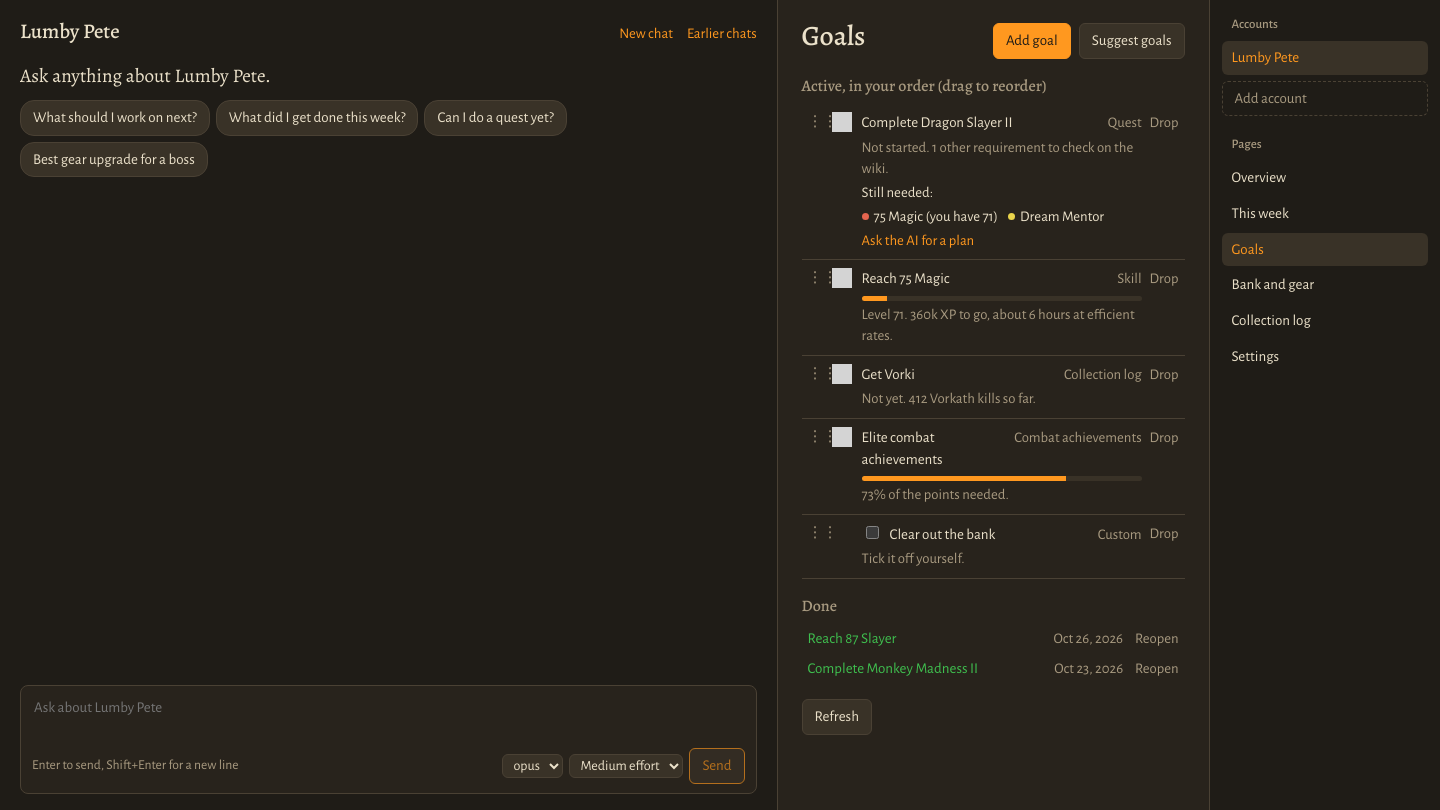
Scenario: Goals › offers to undo a drop
This screenshot has width=1440, height=810.
Step 1. Click the button with aria-label "Drop Complete Dragon Slayer II" → [1164, 123], box x1=1150 y1=112 x2=1179 y2=133
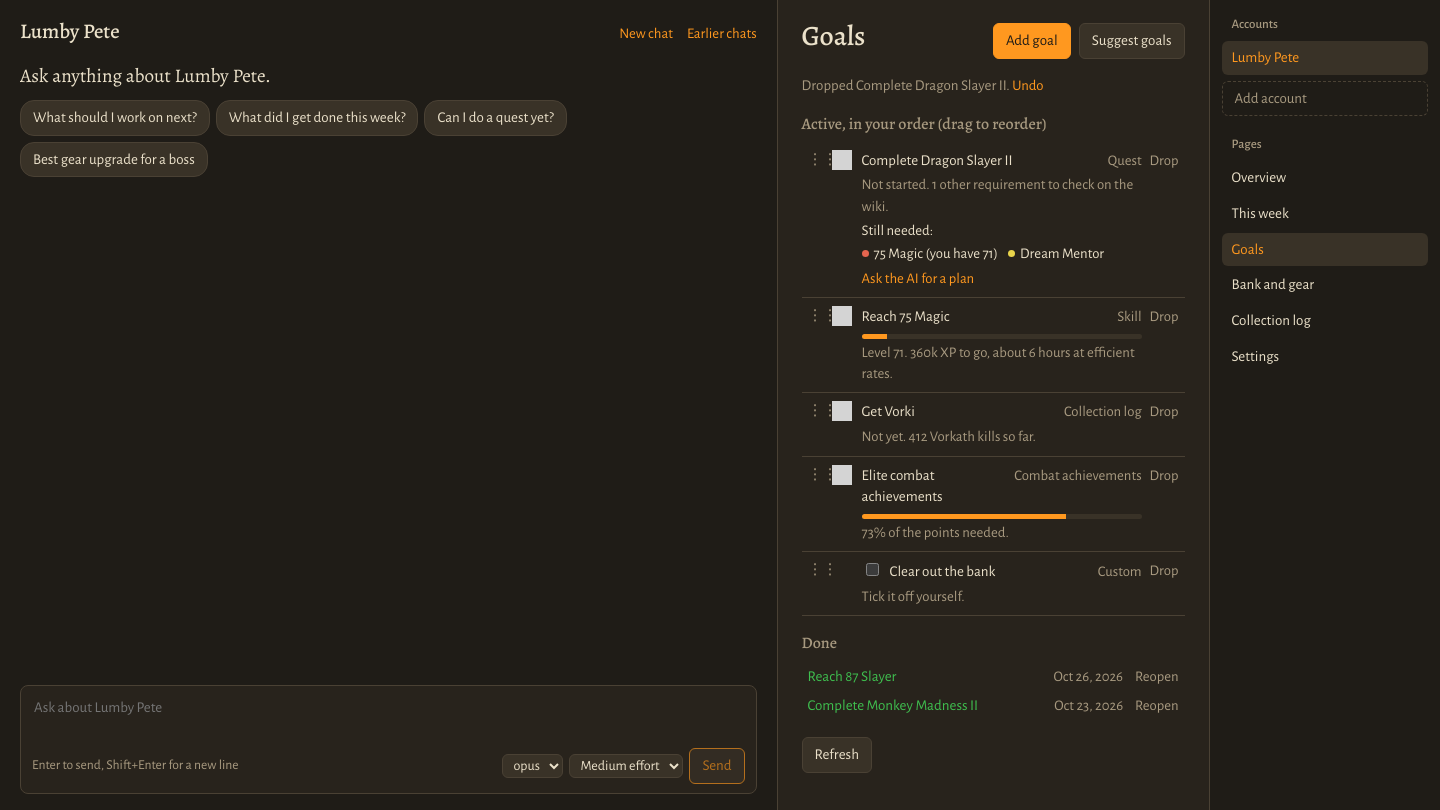
Step 2. Click the button "Undo" → [1028, 85], box x1=1012 y1=75 x2=1044 y2=96
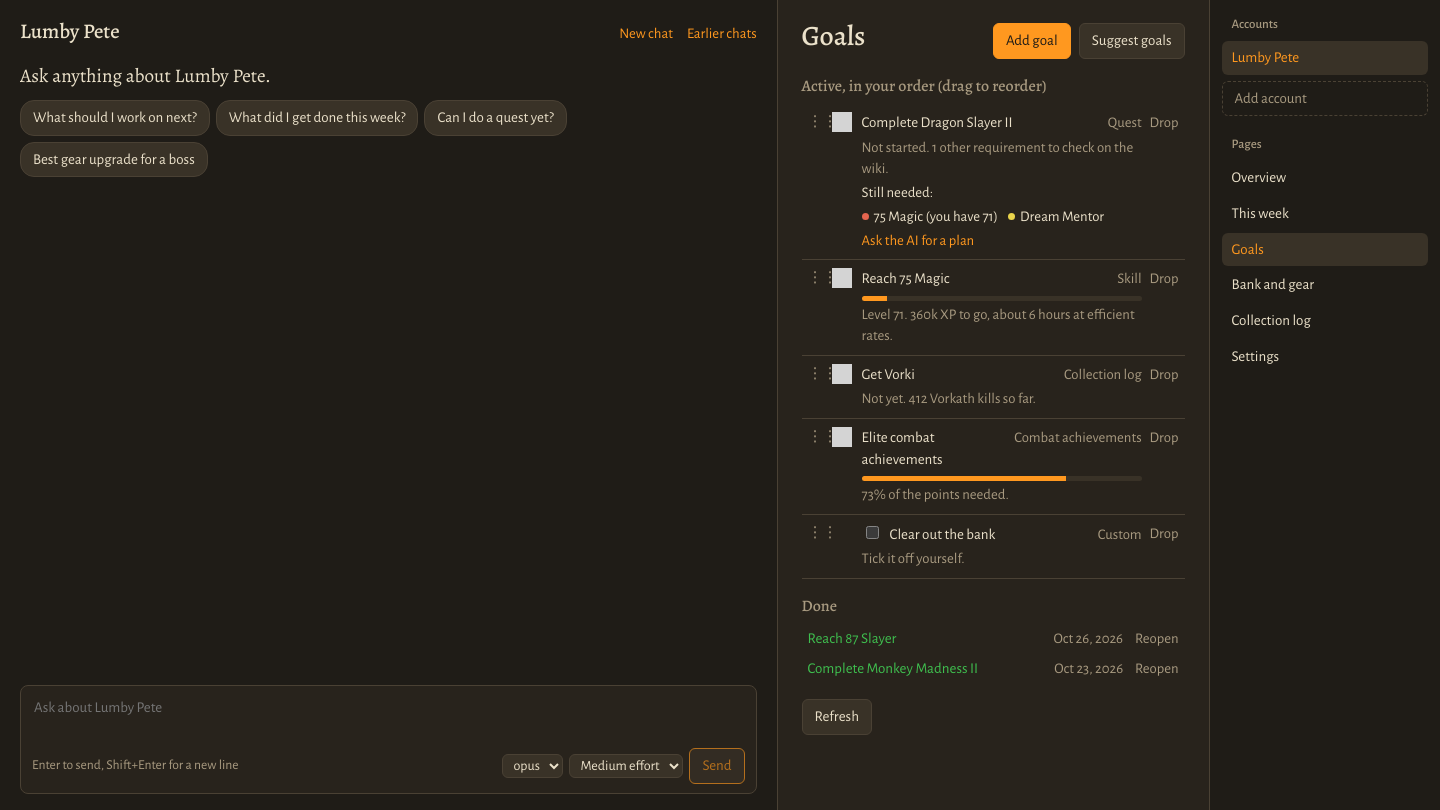
Now the button "Undo" is gone
